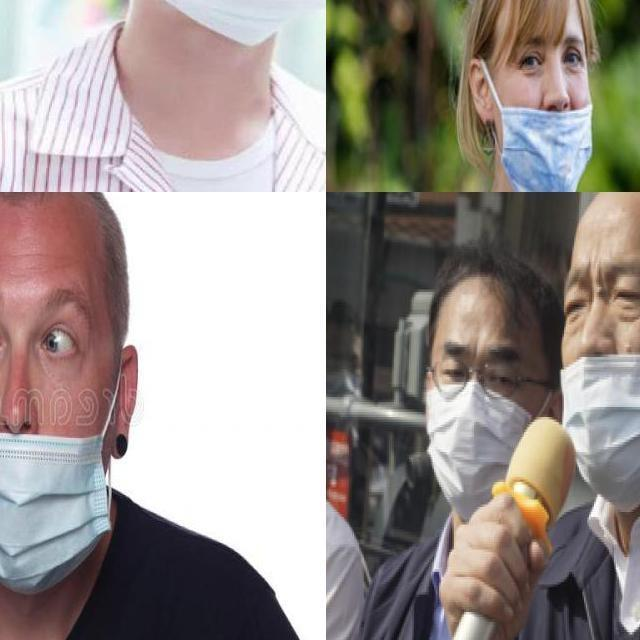hairnet: (0, 378, 117, 535), (561, 318, 639, 510), (501, 72, 589, 191)
